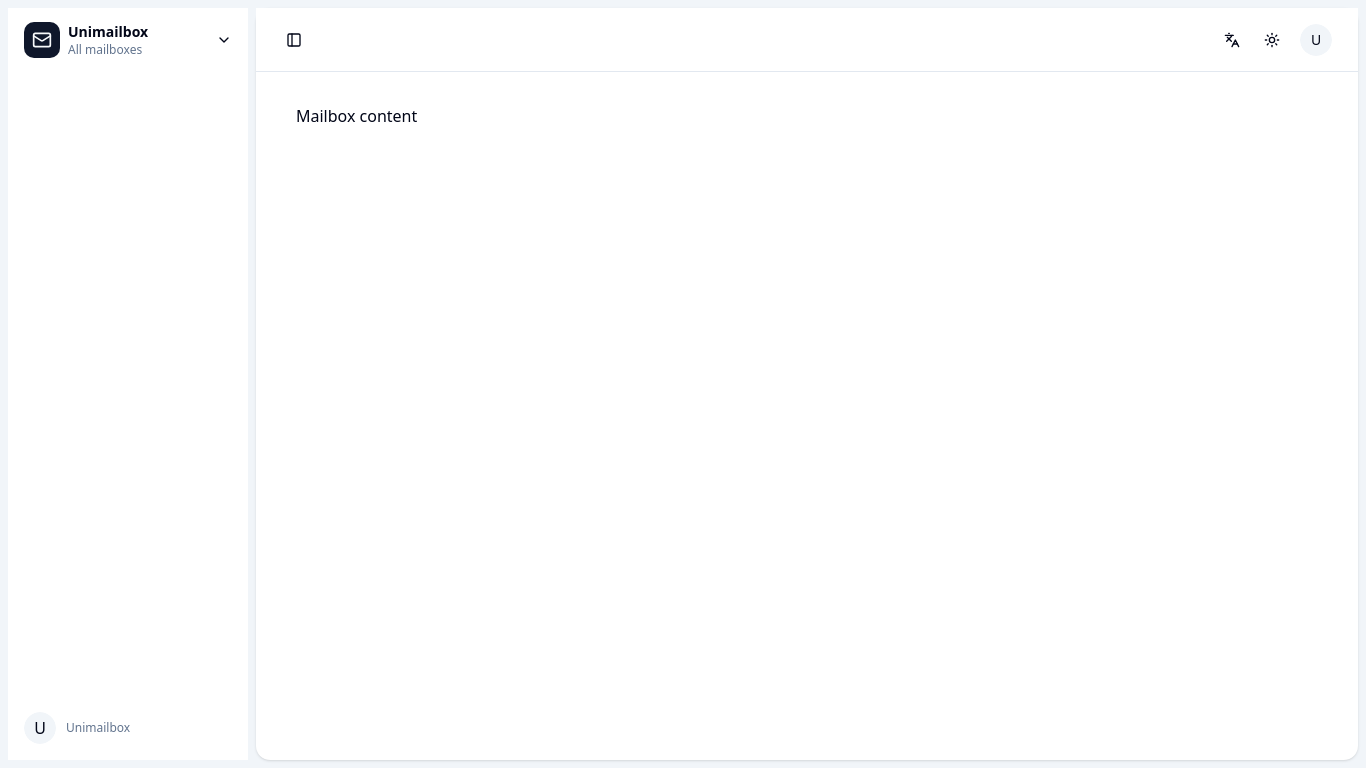
Test: application layouts (CAP-A2) › keeps mailbox navigation separate from administration navigation
Expected: the text "Mailbox content" is shown, top-left (296, 105), bottom-right (417, 127)
Click the button with aria-label "Switch mailbox". click: point(128, 40)
box: top-left (16, 16), bottom-right (240, 64)
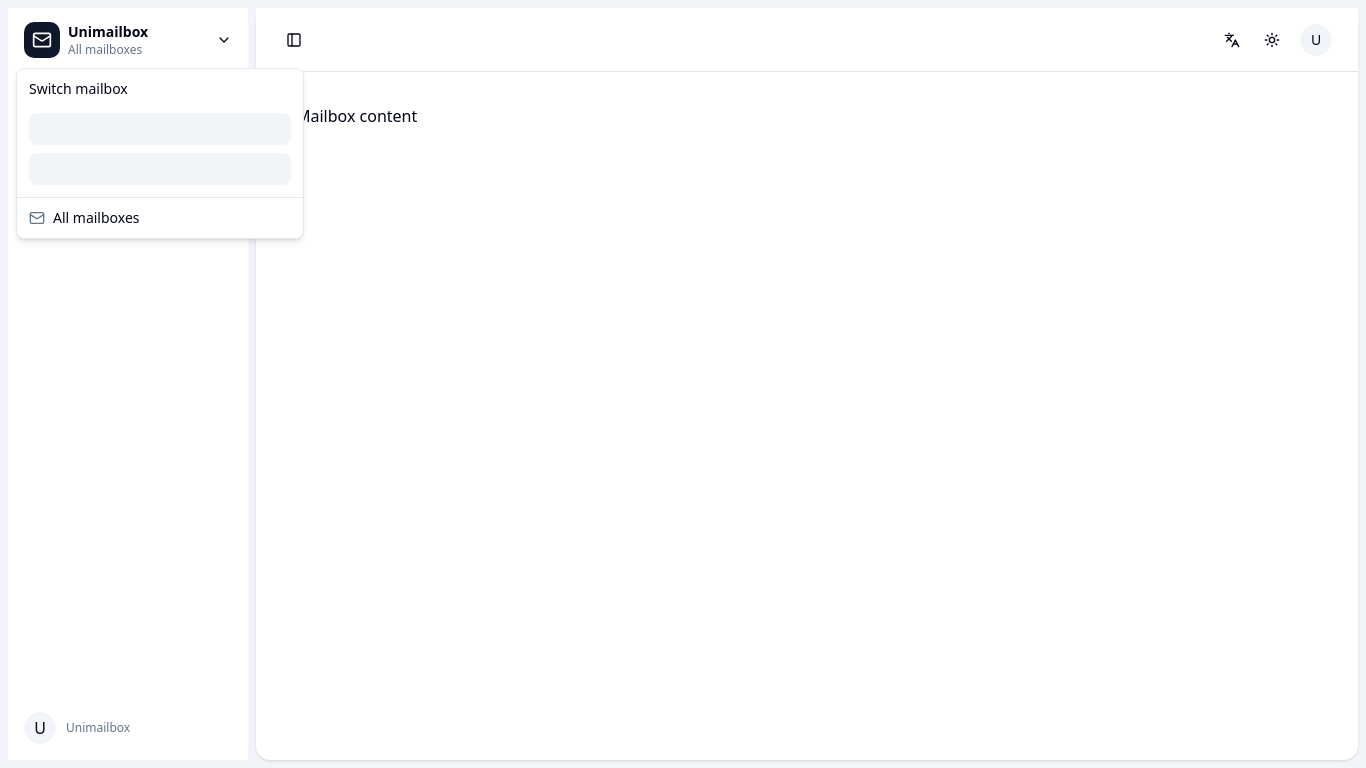
Press Escape
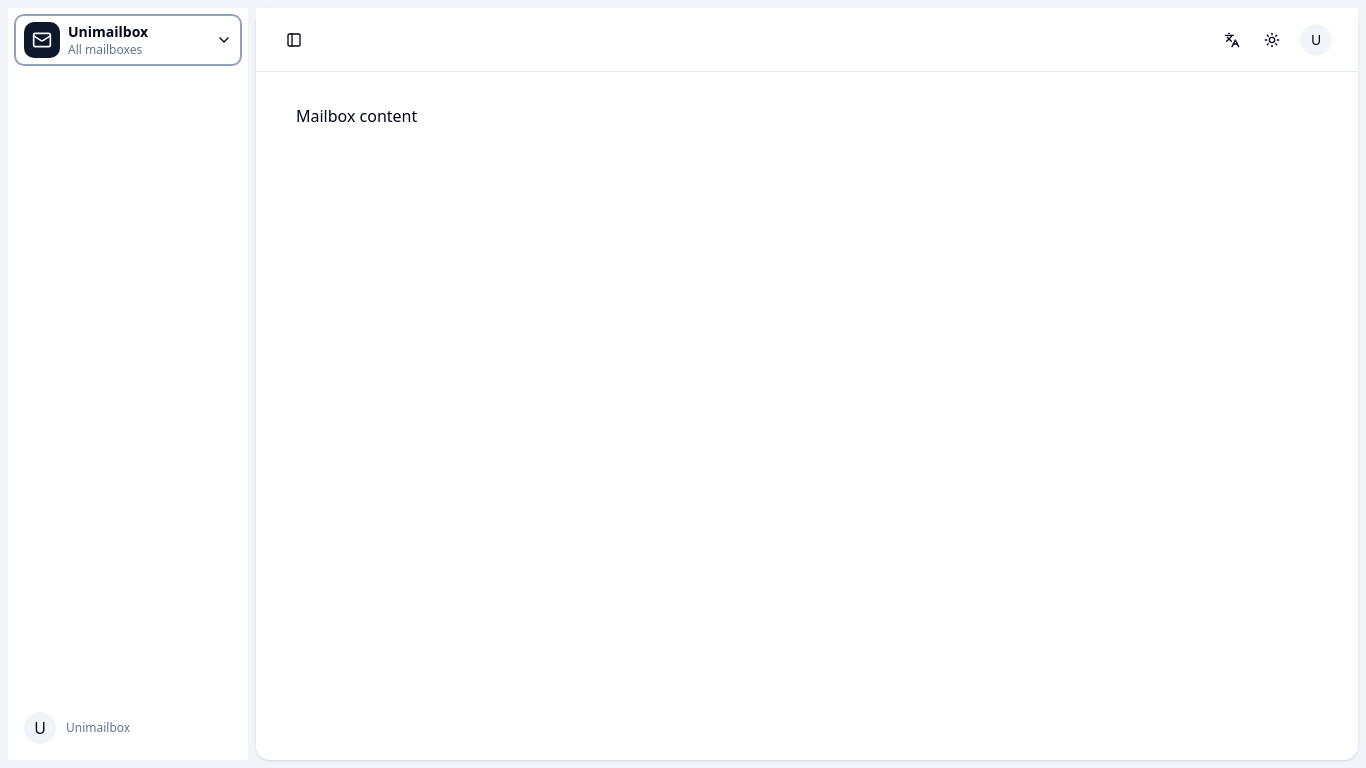
Click the button named "Account menu". click: point(1316, 40)
box: top-left (1298, 22), bottom-right (1334, 58)
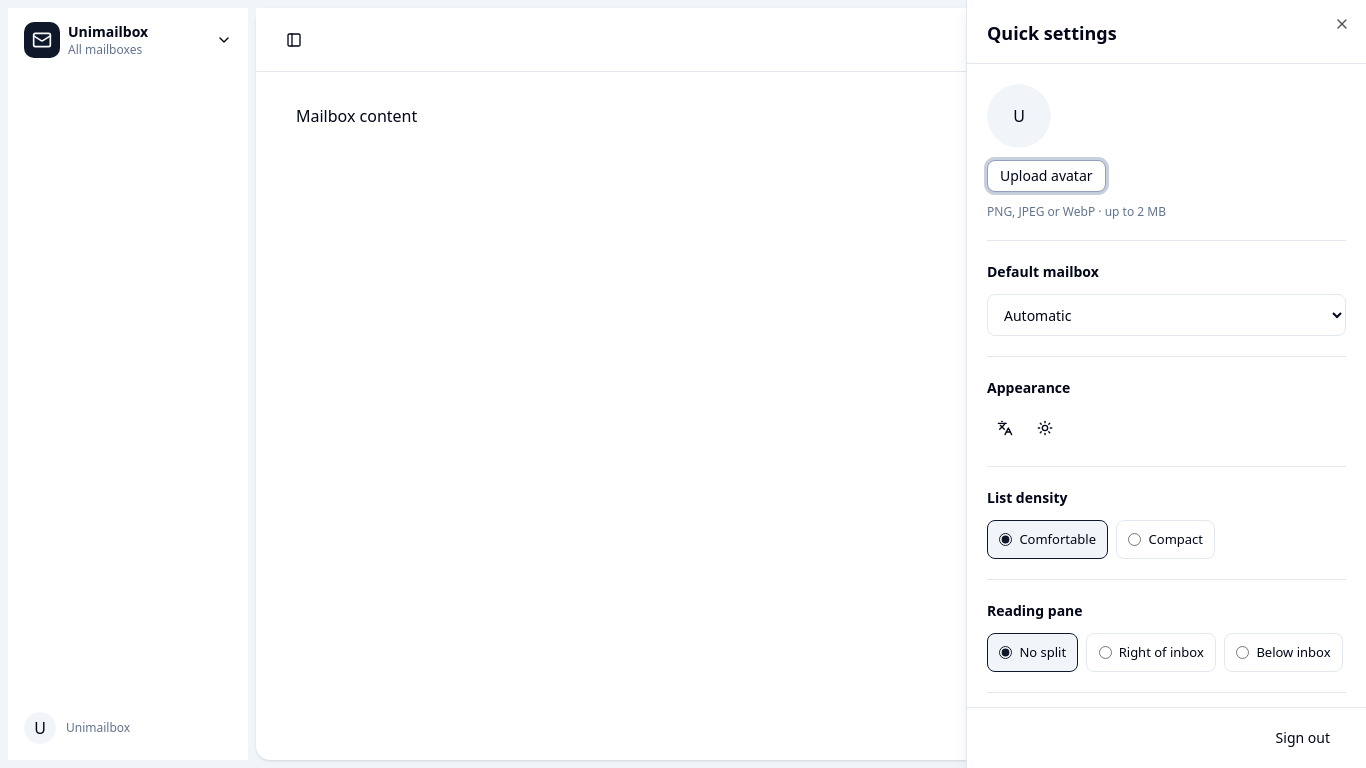
Result: the button with test id "logout-button" is shown at top-left (1260, 720), bottom-right (1346, 756)
